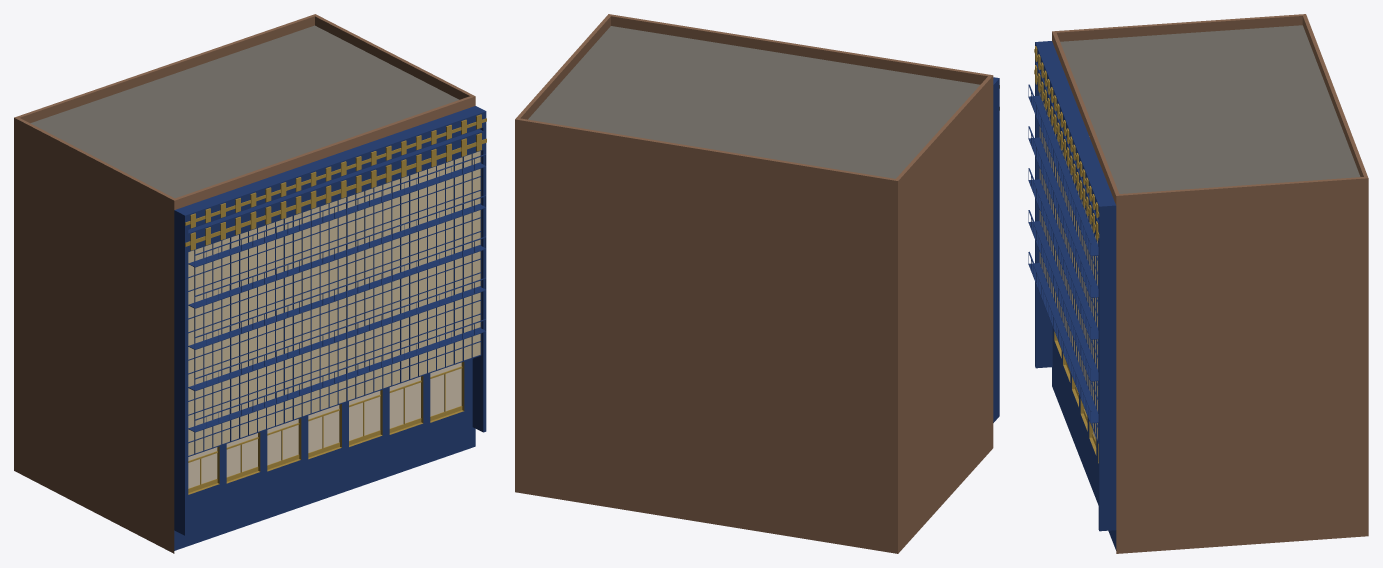
The model's file is hallidie_lod0.glb.
The picture shows the model from 3 angles, left to right: view 1: azimuth 30°, elevation 25°; view 2: azimuth 150°, elevation 25°; view 3: azimuth 270°, elevation 25°; orthographic projection. The views are drawn at different scales.
Parts seen in each view (by area): view 1: L0_brickred, L0_win, L0_paint, L0_roof, L0_metal, L0_shop, L0_gold; view 2: L0_brickred, L0_roof, L0_paint; view 3: L0_brickred, L0_roof, L0_paint, L0_metal, L0_win, L0_gold.
Part boxes in pixels (x1,y1,x2,y2): L0_brickred: (14, 14, 475, 553); L0_win: (188, 151, 480, 455); L0_paint: (174, 106, 486, 535); L0_roof: (30, 25, 459, 198); L0_metal: (174, 358, 475, 550); L0_shop: (188, 362, 461, 488); L0_gold: (185, 114, 486, 250); L0_brickred: (515, 14, 993, 553); L0_roof: (528, 26, 979, 178); L0_paint: (993, 77, 999, 422); L0_brickred: (1052, 14, 1368, 553); L0_roof: (1060, 25, 1360, 193); L0_paint: (1028, 41, 1116, 531); L0_metal: (1052, 327, 1116, 550); L0_win: (1039, 93, 1097, 438); L0_gold: (1034, 46, 1099, 240).
Size of the model in its own units: 32.97 by 30.04 by 25.86.
